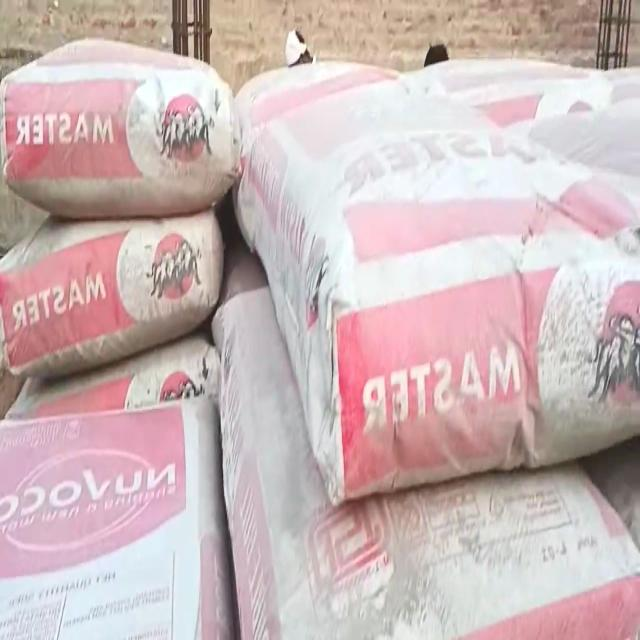gunny_bag: (236, 61, 640, 503), (212, 254, 640, 639), (0, 398, 231, 639), (0, 38, 239, 216), (0, 209, 222, 376)
